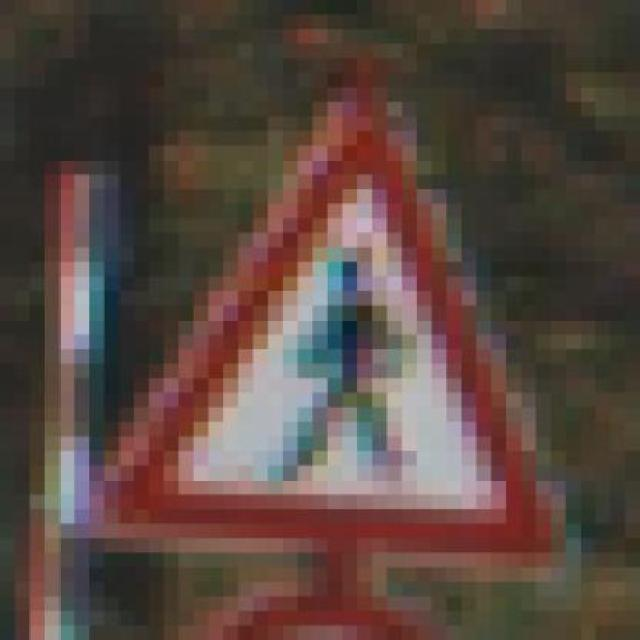Pedestrian Crossing: (59, 73, 581, 582)
